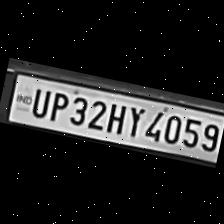0: (160, 108, 184, 143)
2: (85, 95, 108, 131)
3: (64, 90, 90, 125)
4: (140, 103, 166, 140)
5: (178, 112, 202, 147)
9: (197, 118, 222, 152)
H: (102, 98, 128, 134)
P: (45, 87, 69, 122)
U: (26, 84, 52, 118)
Y: (122, 102, 144, 138)
